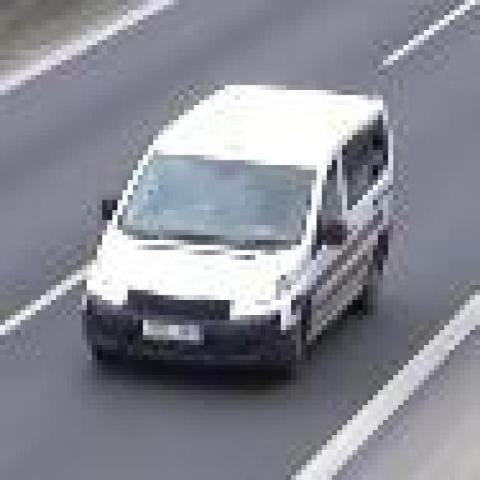van: (82, 88, 394, 368)
